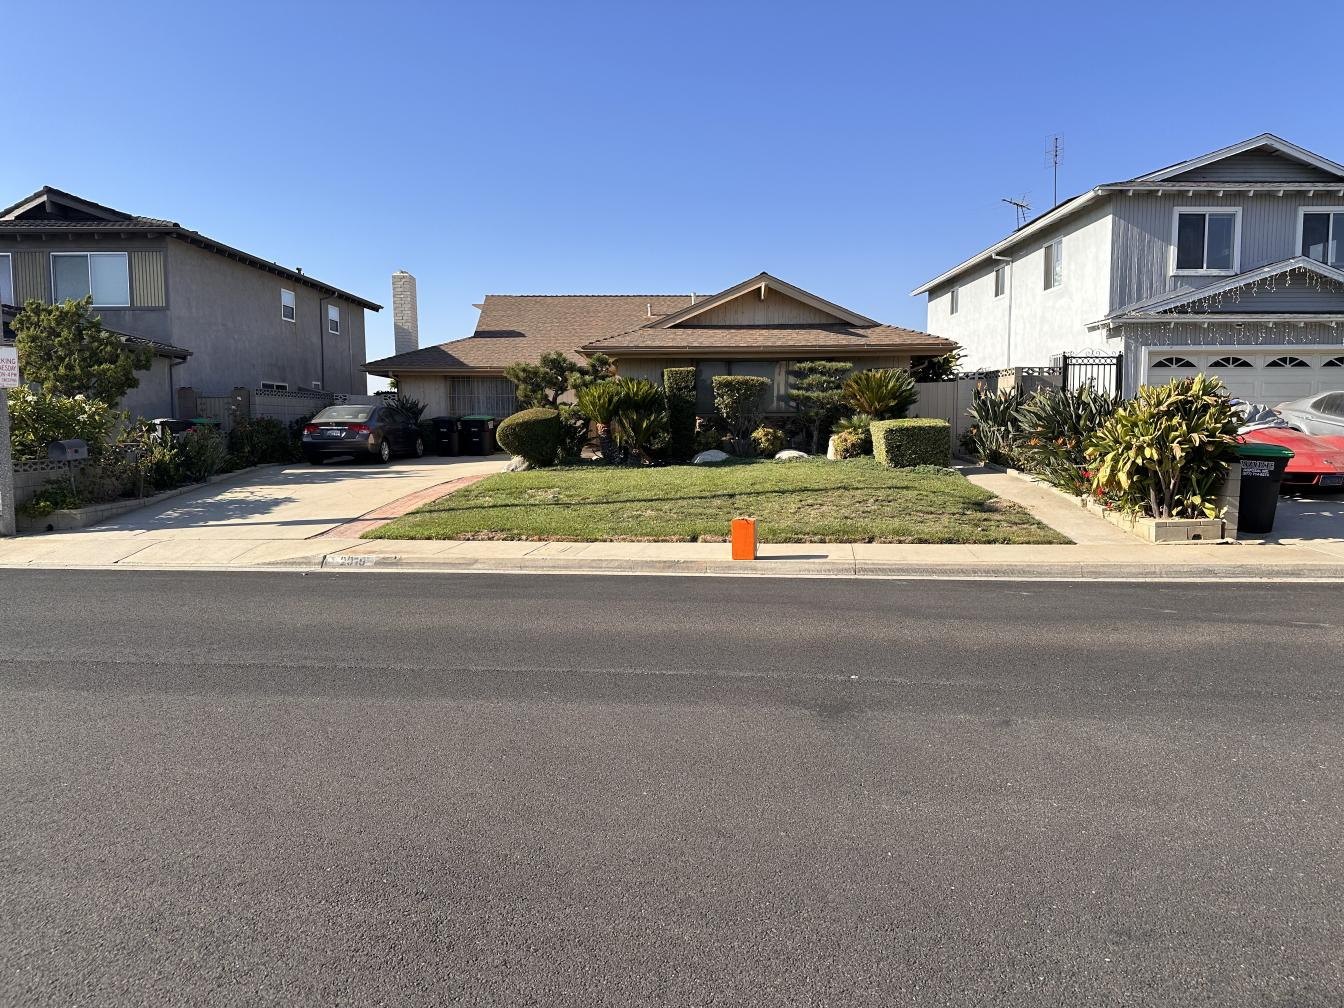curbs-laRr: (767, 558, 1340, 580), (329, 555, 727, 577)
orange box: (728, 518, 761, 561)
